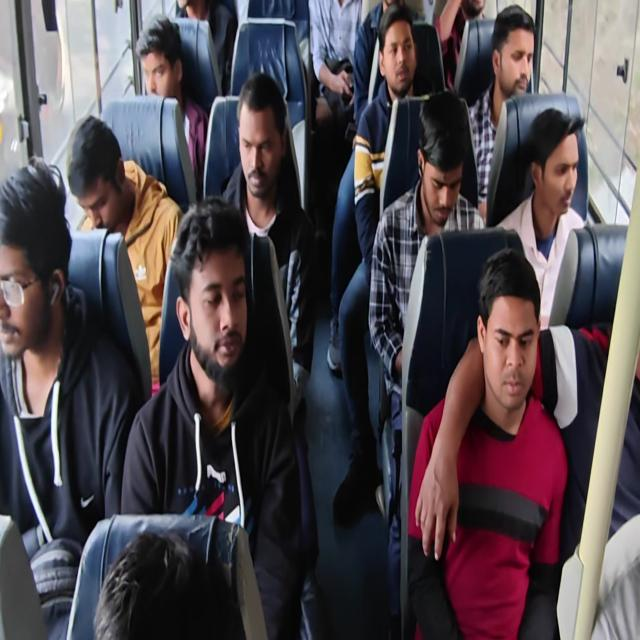person: (1, 1, 638, 638), (433, 107, 639, 565), (120, 195, 303, 638), (0, 156, 137, 638), (368, 89, 487, 635), (406, 246, 568, 638), (332, 4, 431, 522), (220, 71, 317, 425), (66, 115, 184, 396), (494, 107, 586, 331), (93, 529, 246, 639), (464, 4, 536, 222), (134, 14, 208, 197), (352, 0, 404, 131), (308, 0, 362, 122), (434, 0, 486, 91)
